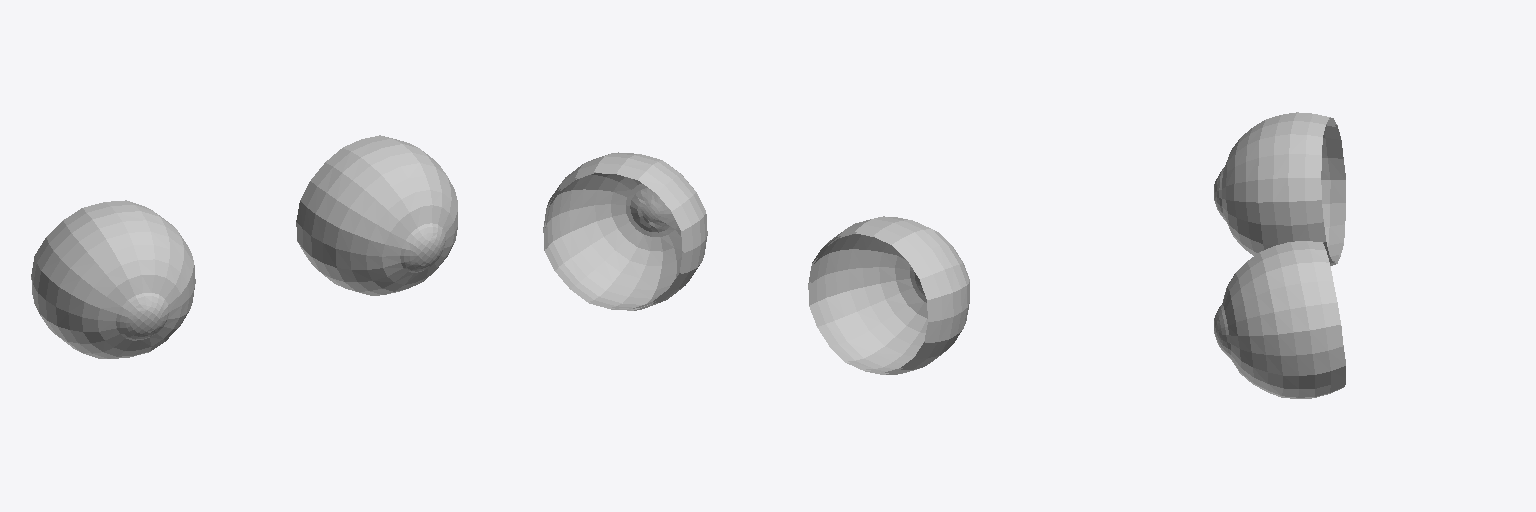
File: eye.obj
3 views of the same model, side by side, from view 1: azimuth 30°, elevation 25°; view 2: azimuth 150°, elevation 25°; view 3: azimuth 270°, elevation 25° (orthographic).
Bounding box in the file's own units: 0.0892 × 0.0298 × 0.0254.